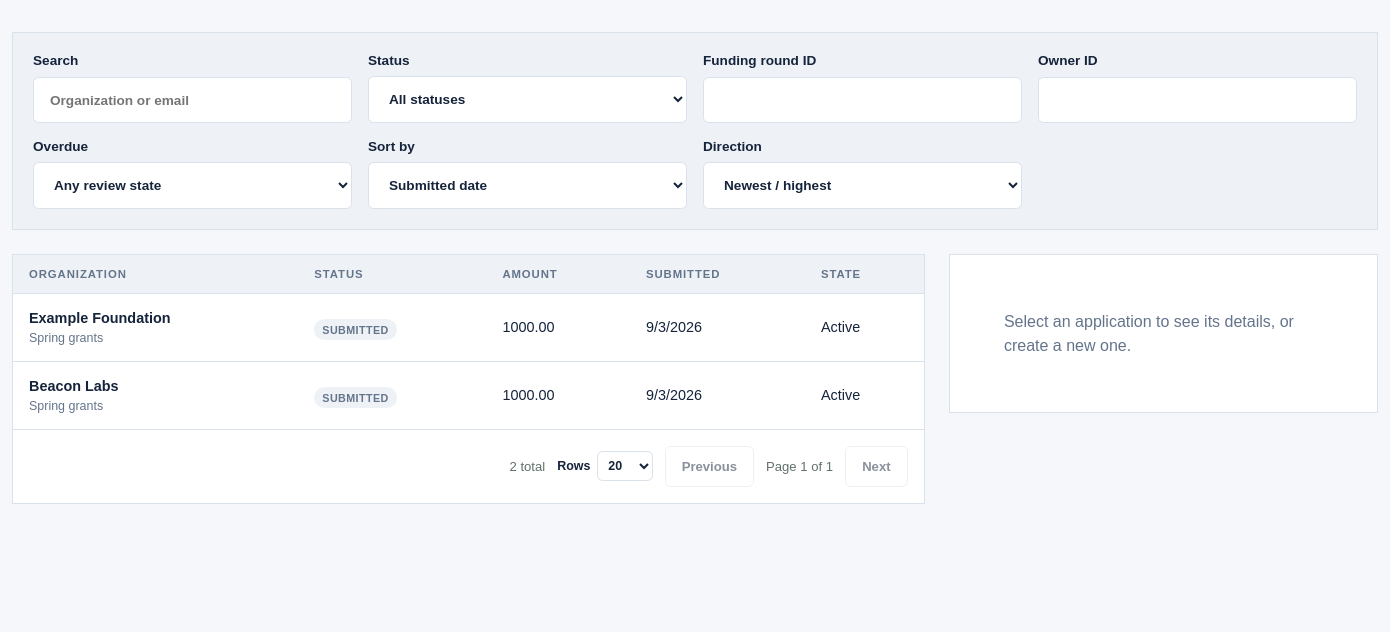
Test: Program Officer assignment management › does not re-select the old application after a stale create mutation finishes
Click the button "Example Foundation": (100, 318) [29,310,170,326]
(page scrolled)
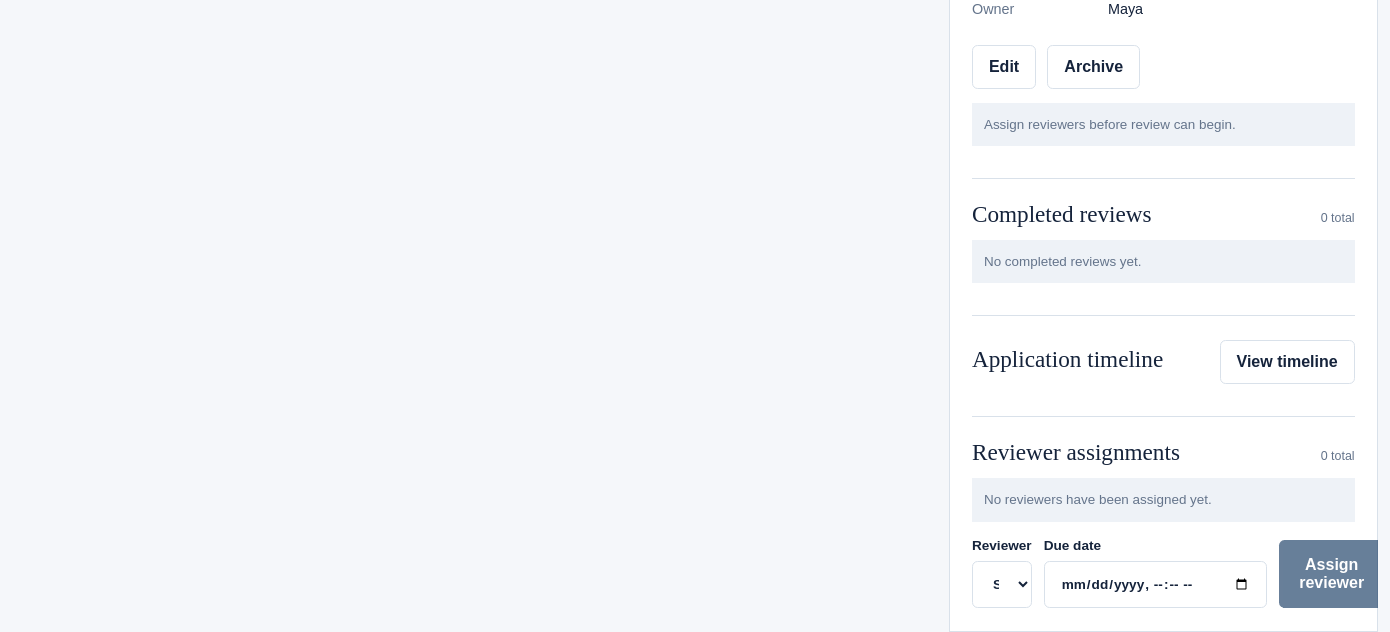
Select "Ava Adams (ava@example.test)" in the dropdown labelled "Reviewer": (1002, 585) [972,561,1032,608]
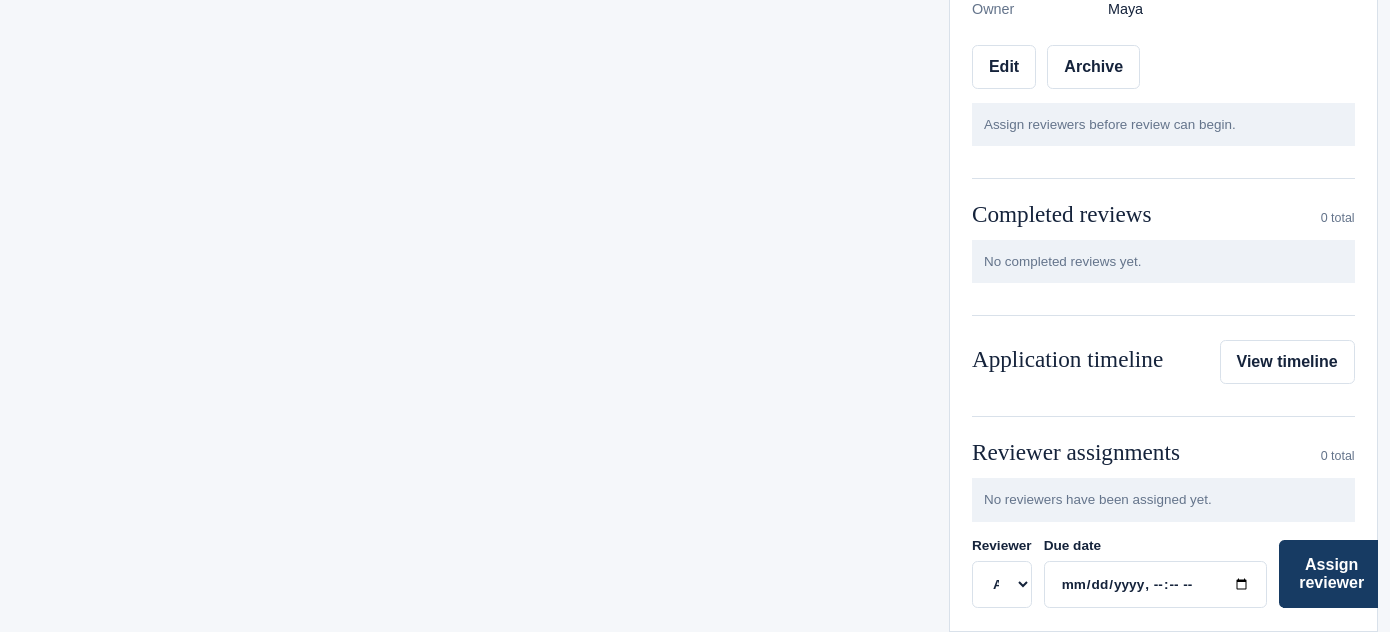
In the field labelled "Due date": (1155, 584) [1044,561,1267,608], type "2026-09-11T09:00"
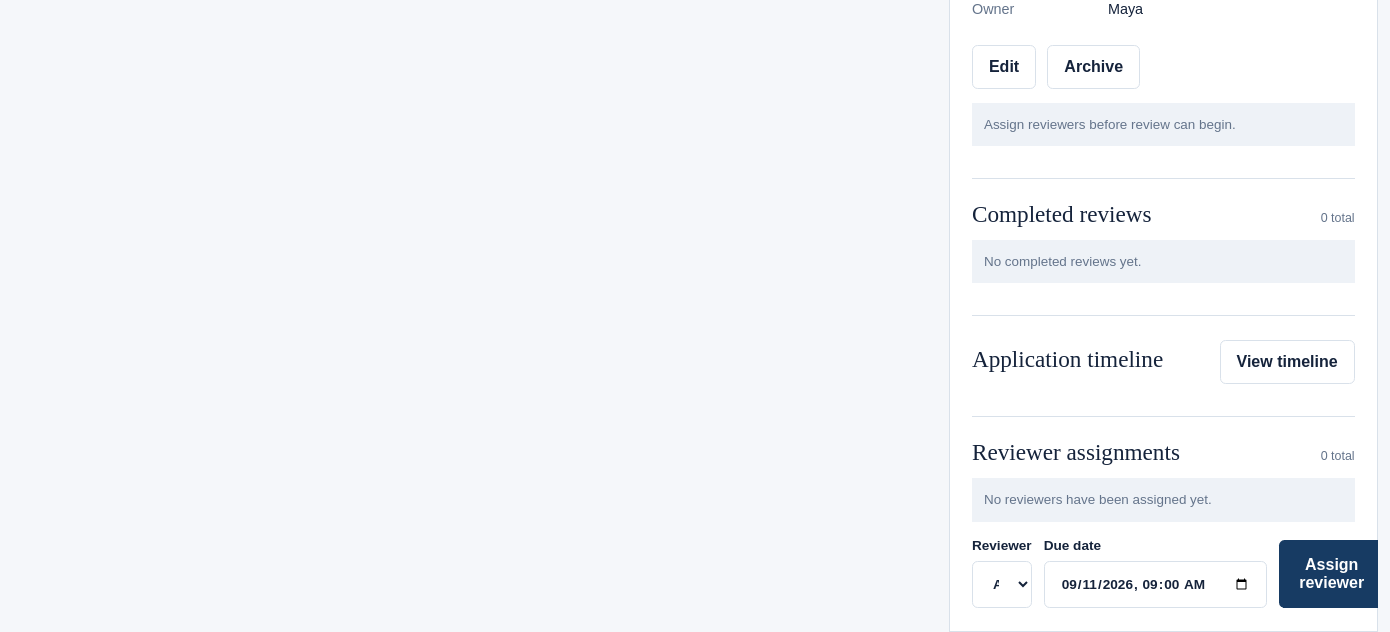
Click the button "Assign reviewer": (1329, 574) [1279,540,1378,608]
(page scrolled)
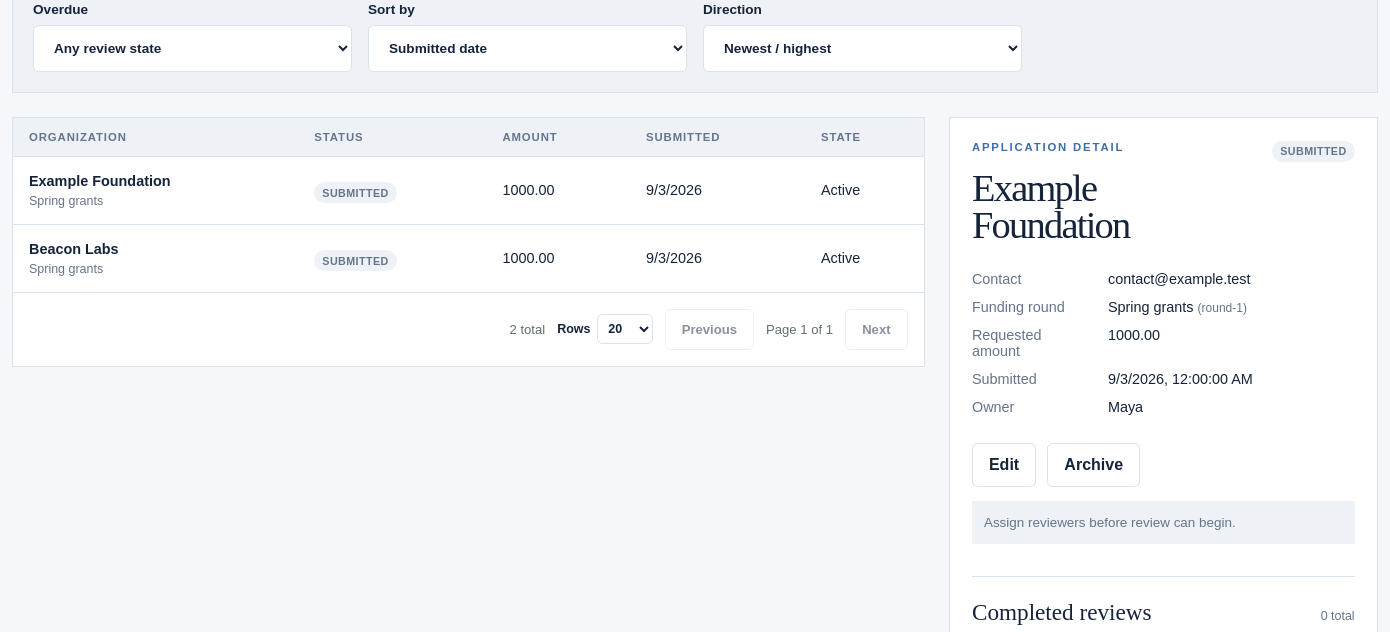
Click the button "Beacon Labs": (74, 249) [29,241,119,257]
(page scrolled)
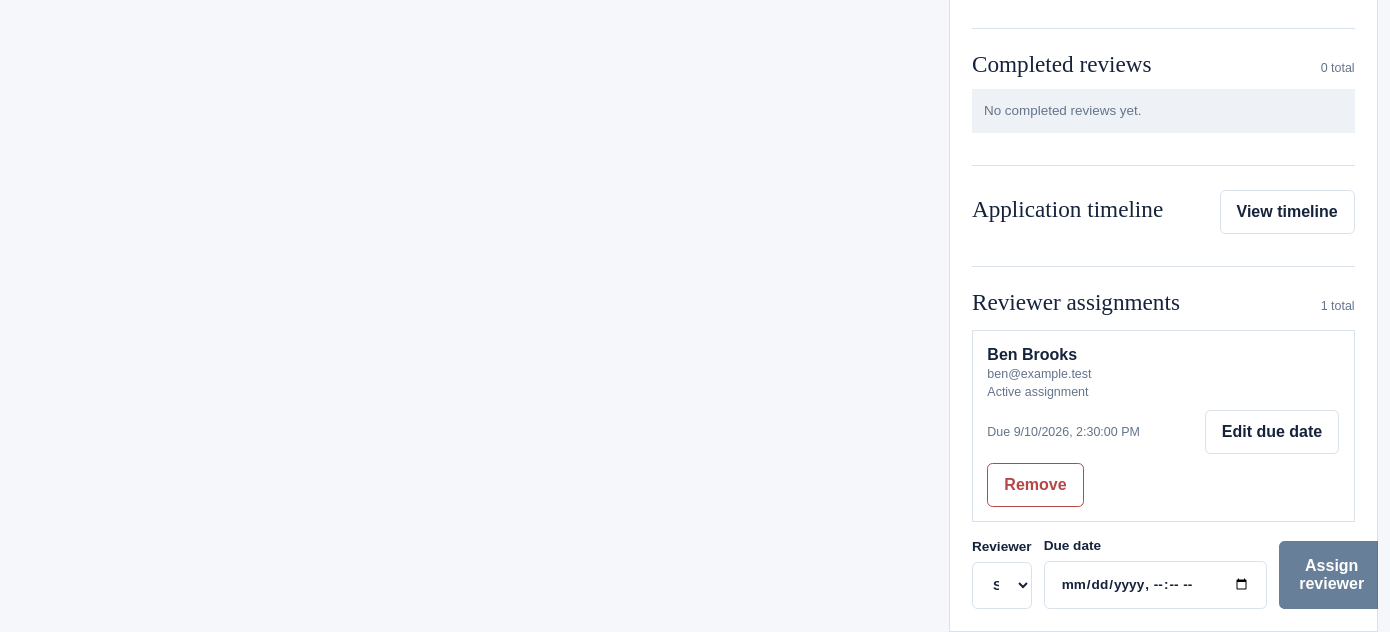
Expected: the heading "Example Foundation" is not shown
Expected: the text "Ben Brooks" is shown, [987,346,1077,362]
